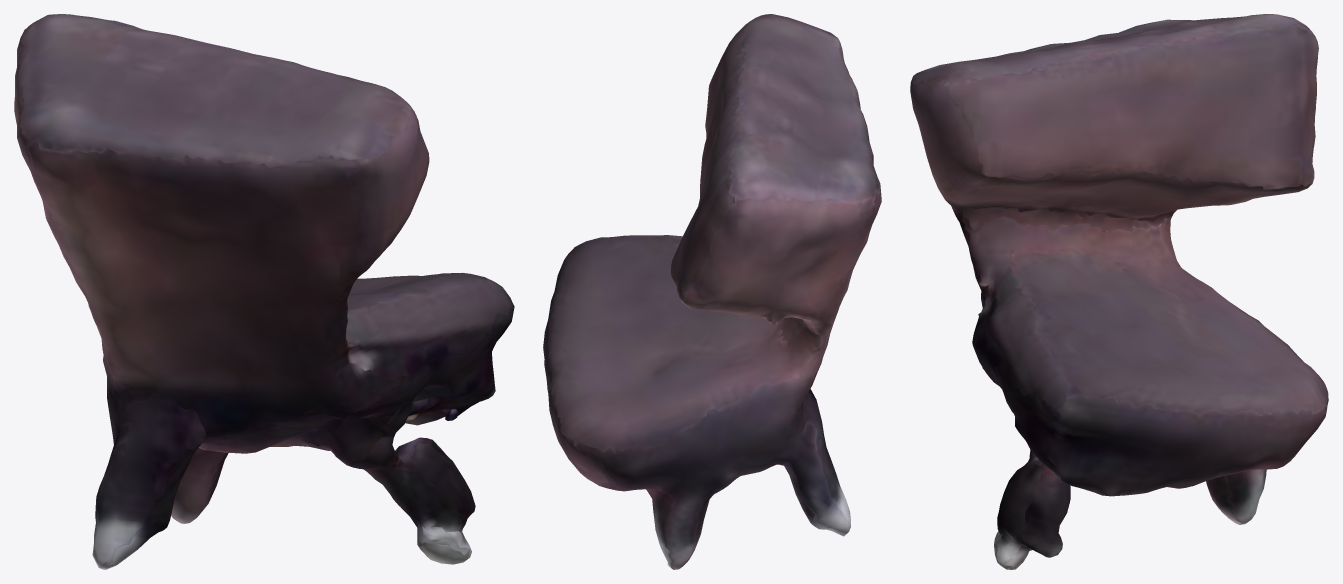
The model's file is 5_chair.glb.
3 views of the same model, side by side, from view 1: azimuth 30°, elevation 25°; view 2: azimuth 150°, elevation 25°; view 3: azimuth 270°, elevation 25° (orthographic). The views are drawn at different scales.
Parts seen in each view (by area): view 1: 5_chair; view 2: 5_chair; view 3: 5_chair.
Part boxes in pixels (bbox=[...]): 5_chair: bbox=[14, 14, 514, 569]; 5_chair: bbox=[543, 14, 881, 569]; 5_chair: bbox=[910, 14, 1328, 569].
Size of the model in its own units: 0.8718 by 1.04 by 0.8322.
Materials: 1 (1 with a texture image).
